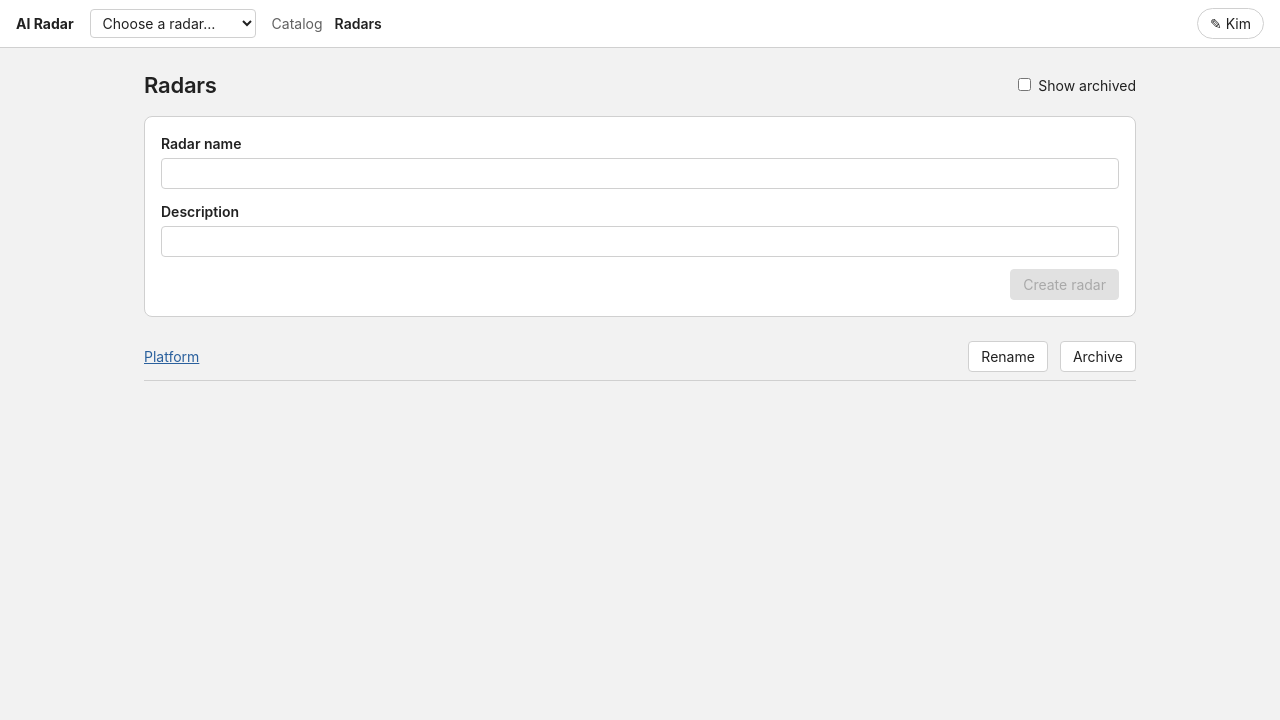
RadarListPage › shows toast when archive fails
Click the button with aria-label "Archive Platform". click: (1098, 356)
box: x1=1060 y1=340 x2=1136 y2=372
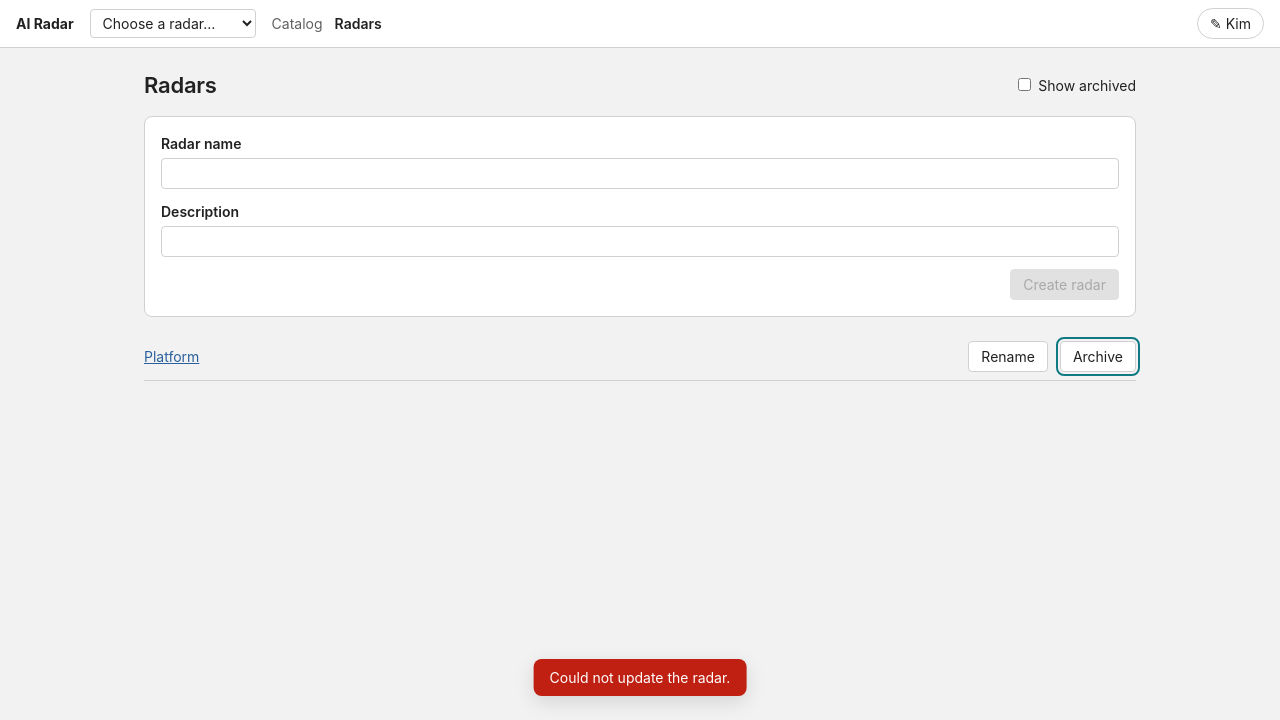
Expected: the link "Platform" is shown, x1=144 y1=348 x2=199 y2=364
Expected: the message shows "Could not update the radar", x1=550 y1=669 x2=730 y2=686
